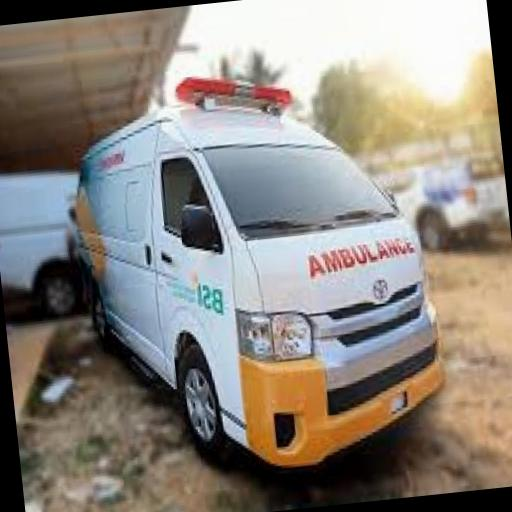Police car: (70, 54, 453, 489)
